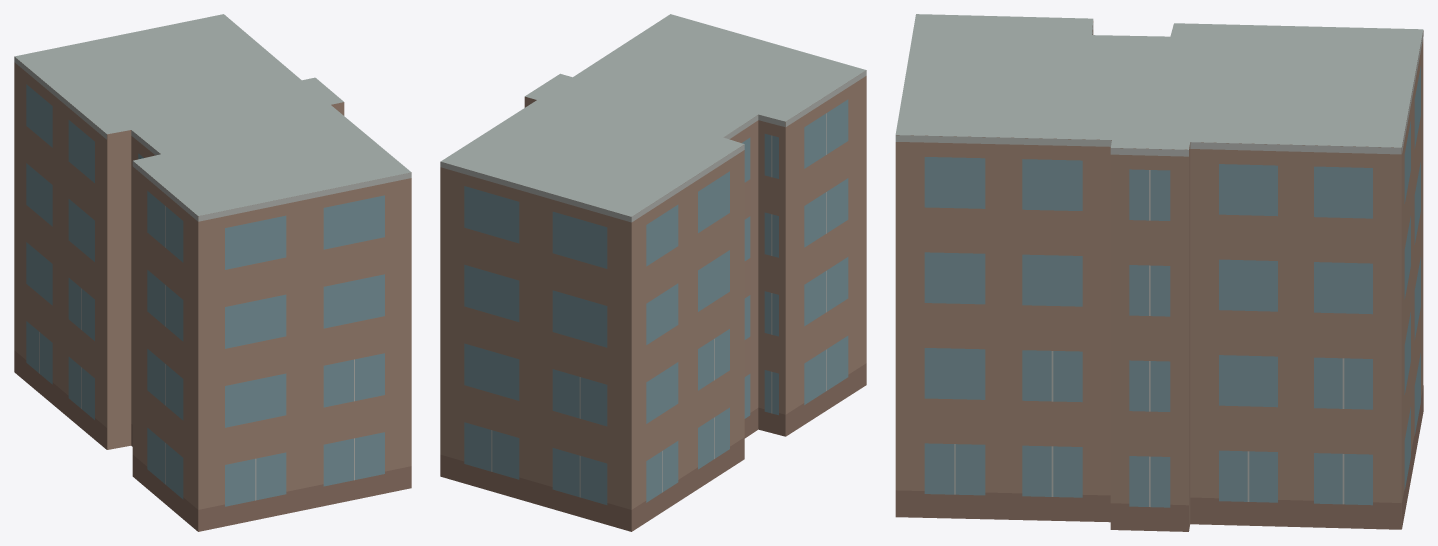
The model's file is survey-upis-32750026.glb.
The picture shows the model from 3 angles, left to right: view 1: azimuth 30°, elevation 25°; view 2: azimuth 150°, elevation 25°; view 3: azimuth 270°, elevation 25°; orthographic projection. The views are drawn at different scales.
Parts seen in each view (by area): view 1: survey-upis-32750026.tmp; view 2: survey-upis-32750026.tmp; view 3: survey-upis-32750026.tmp.
Part boxes in pixels (left/top/right/bottom): survey-upis-32750026.tmp: left=14, top=14, right=411, bottom=531; survey-upis-32750026.tmp: left=440, top=14, right=866, bottom=531; survey-upis-32750026.tmp: left=895, top=14, right=1423, bottom=531.
Bounding box in the file's own units: 10.45 × 13.7 × 17.17.
